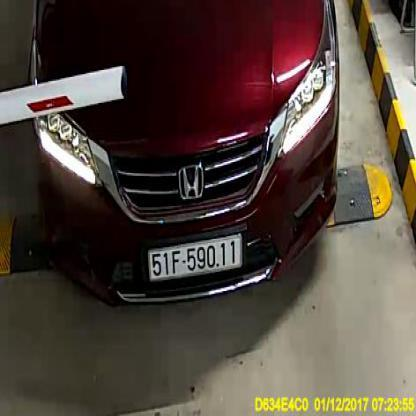biensoxe: (148, 233, 243, 284)
